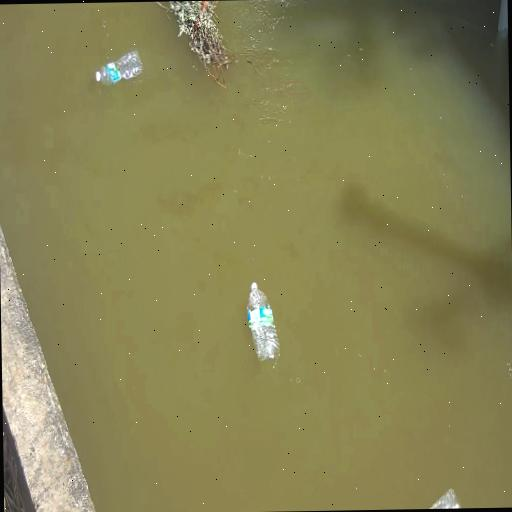plastic: (247, 283, 279, 361), (95, 51, 141, 85), (429, 490, 459, 508)
twig: (155, 0, 243, 90)
